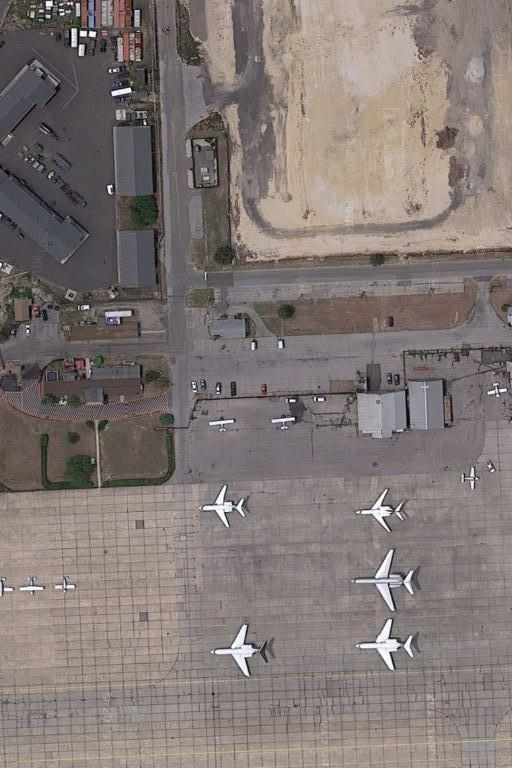plane: (349, 546, 421, 614), (207, 618, 275, 683), (356, 617, 421, 677), (195, 479, 250, 534), (352, 486, 411, 536)
